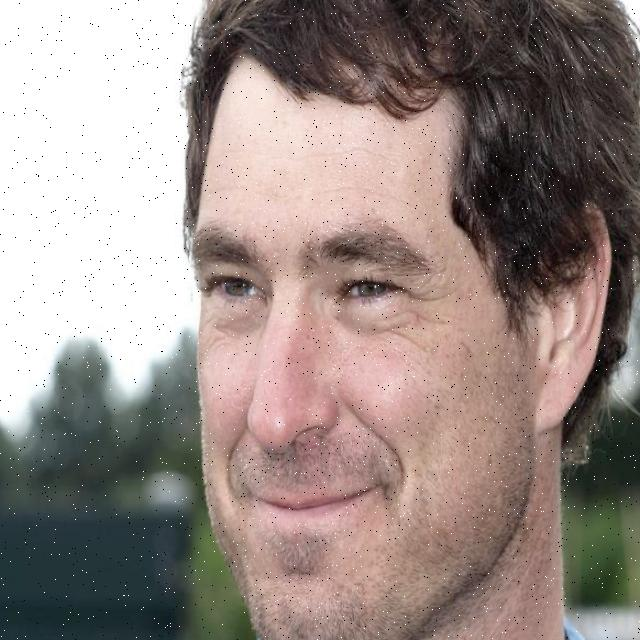puffy_eyes: (329, 293, 412, 341), (209, 290, 270, 341), (342, 303, 402, 330), (212, 303, 256, 331)
